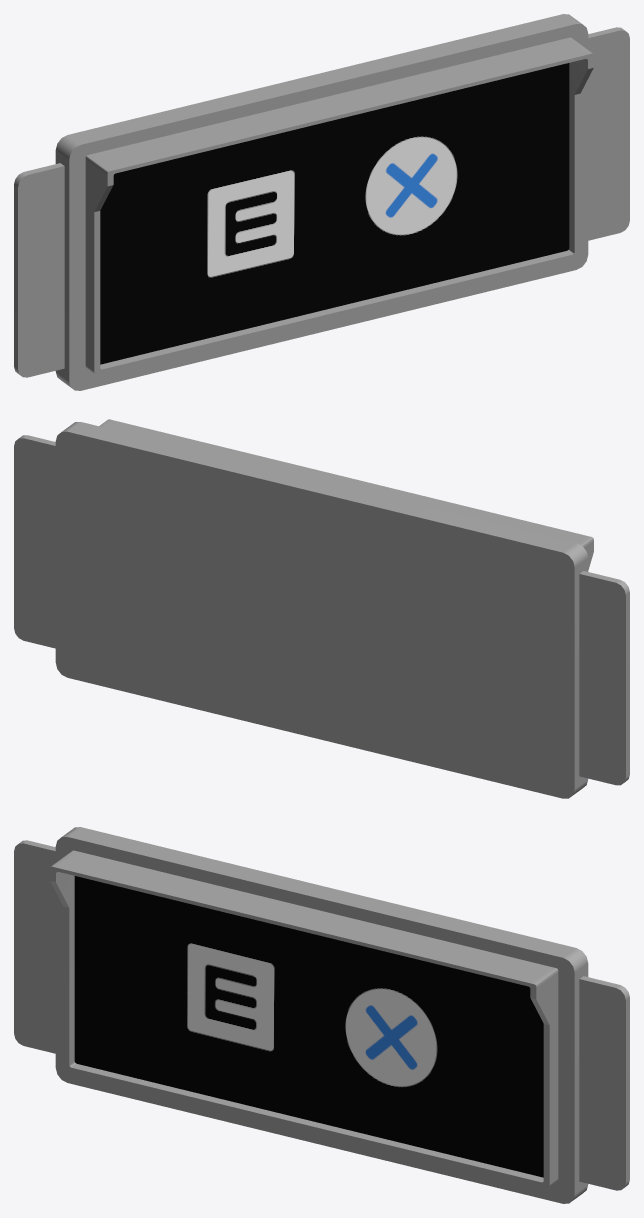
Rendered from Monitor_Tutorial.fbx.
The picture shows the model from 3 angles, top to bottom: view 1: azimuth 30°, elevation 25°; view 2: azimuth 150°, elevation 25°; view 3: azimuth 330°, elevation 25°; orthographic projection.
Visible parts, largest first — view 1: Screen, Monitor_Base, ScreenCover, R_SidePanel, L_SidePanel; view 2: Monitor_Base, R_SidePanel, L_SidePanel, ScreenCover; view 3: Screen, Monitor_Base, ScreenCover, L_SidePanel, R_SidePanel.
Boxes of the visible parts, left/top/right/bottom form: Screen: left=100, top=63, right=569, bottom=364; Monitor_Base: left=55, top=14, right=588, bottom=390; ScreenCover: left=85, top=37, right=593, bottom=373; R_SidePanel: left=14, top=163, right=64, bottom=377; L_SidePanel: left=588, top=27, right=629, bottom=240; Monitor_Base: left=55, top=422, right=588, bottom=798; R_SidePanel: left=579, top=571, right=629, bottom=785; L_SidePanel: left=14, top=435, right=55, bottom=648; ScreenCover: left=99, top=419, right=593, bottom=569; Screen: left=74, top=876, right=543, bottom=1177; Monitor_Base: left=55, top=827, right=588, bottom=1203; ScreenCover: left=50, top=850, right=558, bottom=1186; L_SidePanel: left=579, top=976, right=629, bottom=1190; R_SidePanel: left=14, top=840, right=55, bottom=1053.
Size of the model in its own units: 260 by 100 by 26.15.
